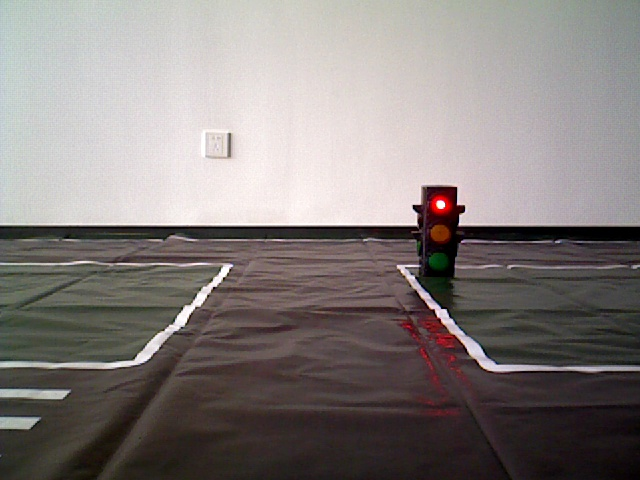red: (423, 185, 454, 271)
